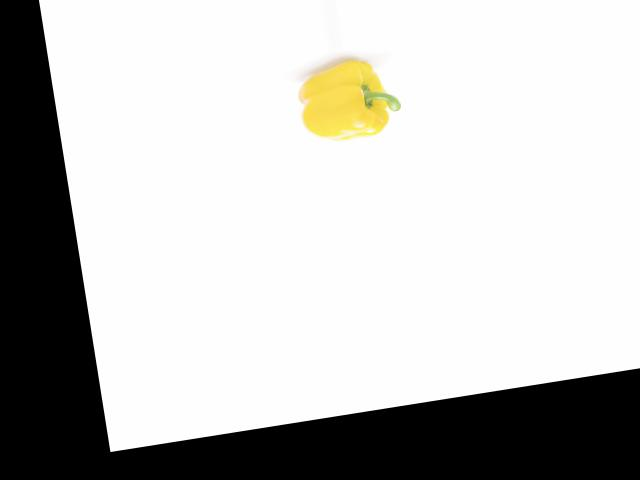bell_pepper: (290, 52, 414, 151)
